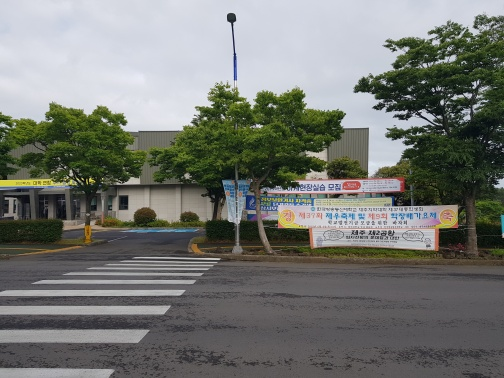Gym: (6, 124, 220, 228)
